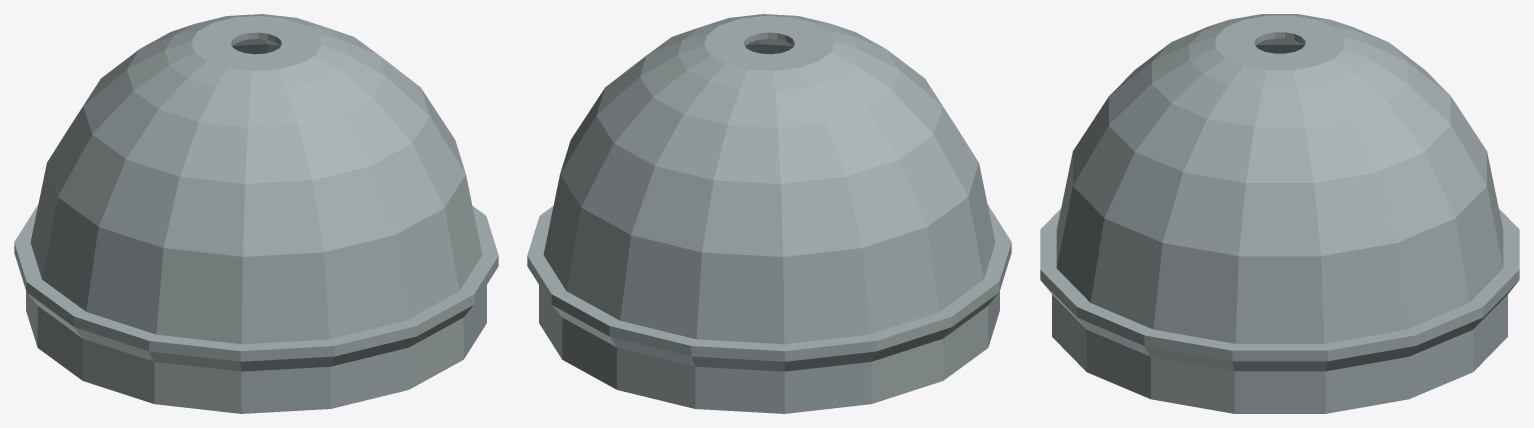
File: SM_Cook_CupDomeLid_01.fbx
The picture shows the model from 3 angles, left to right: view 1: azimuth 30°, elevation 25°; view 2: azimuth 150°, elevation 25°; view 3: azimuth 270°, elevation 25°; orthographic projection.
Parts seen in each view (by area): view 1: SM_Cook_CupDomeLid_01; view 2: SM_Cook_CupDomeLid_01; view 3: SM_Cook_CupDomeLid_01.
Part boxes in pixels (x1,y1,x2,y2): SM_Cook_CupDomeLid_01: (14,14,498,413); SM_Cook_CupDomeLid_01: (527,14,1011,413); SM_Cook_CupDomeLid_01: (1040,14,1519,413).
Size of the model in its own units: 0.102 by 0.0645 by 0.102.
Materials: 1 (1 with a texture image).
